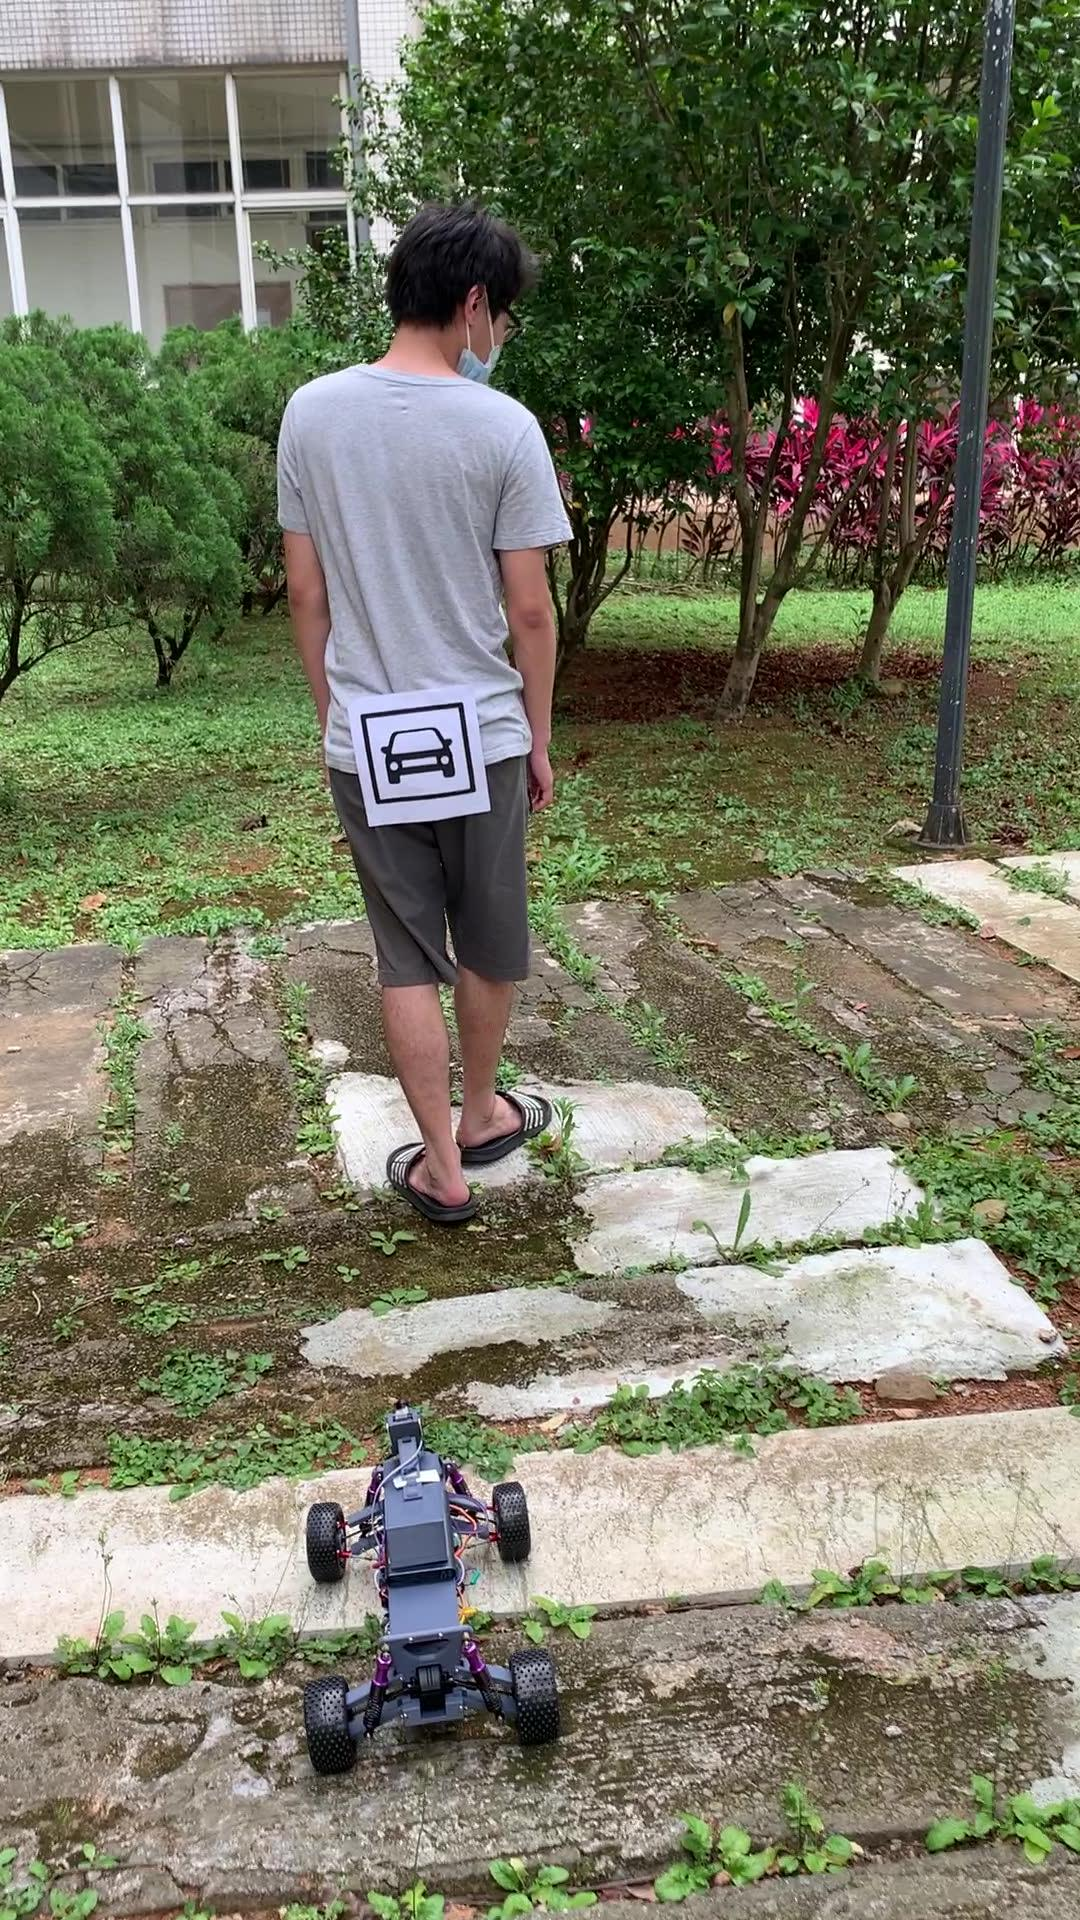car_img: (360, 702, 476, 804)
